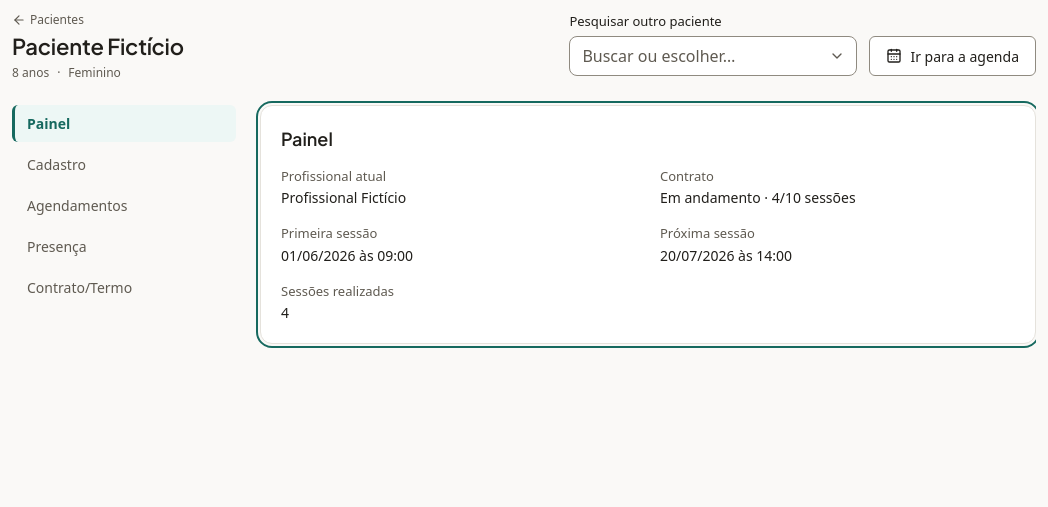
Scenario: Ficha do paciente — seções › não deve guardar dado de paciente no armazenamento local (a seção vive na URL)
Expected: the heading "Paciente Fictício" is shown, [12,32,184,61]
Click the link "Cadastro" at (56, 164), box [27,155,86,174]
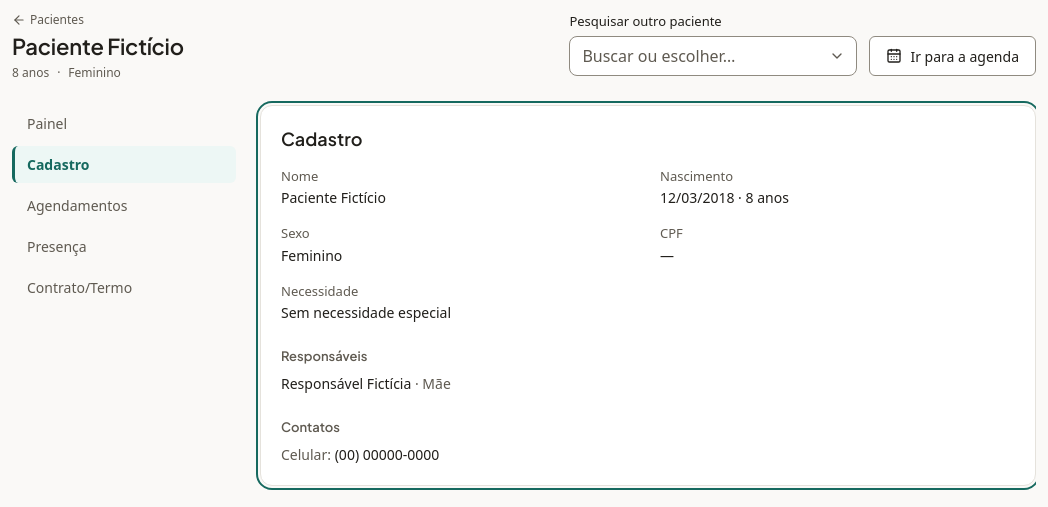
Expected: the heading "Responsáveis" is shown, [281,348,367,364]
